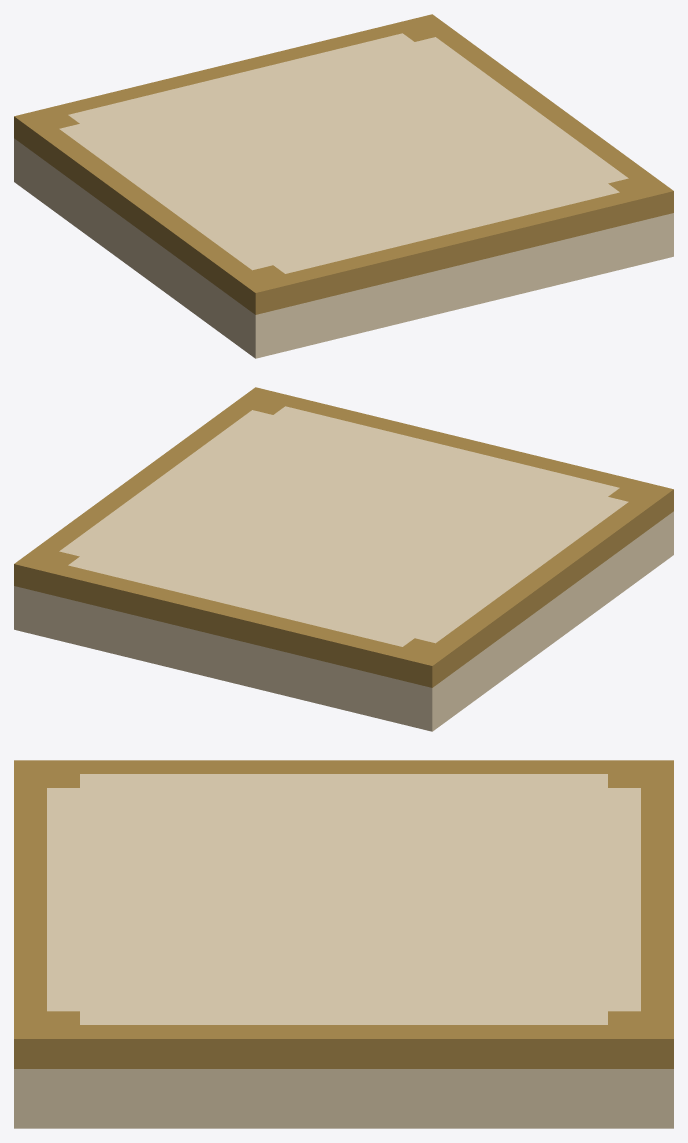
The model's file is block.obj.
The picture shows the model from 3 angles, top to bottom: view 1: azimuth 30°, elevation 25°; view 2: azimuth 150°, elevation 25°; view 3: azimuth 270°, elevation 25°; orthographic projection. The views are drawn at different scales.
Bounding box in the file's own units: 2 × 0.3 × 2.
1 material, 1 textured.
